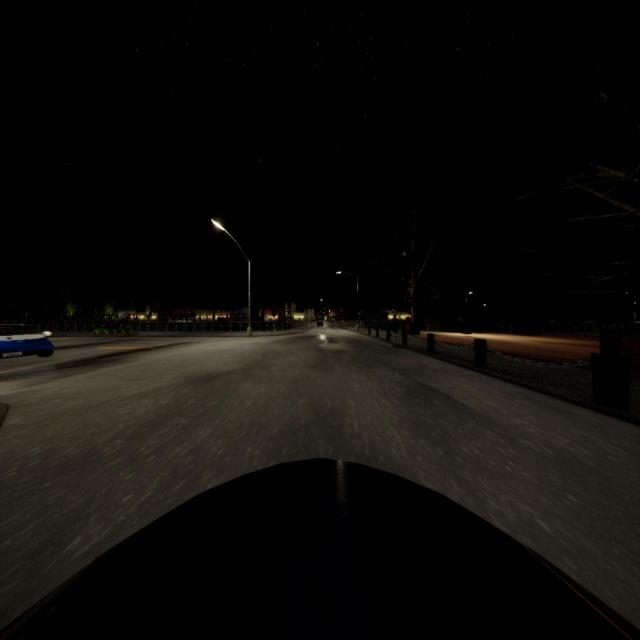Vehicle: (1, 455, 640, 640), (0, 322, 55, 362), (316, 318, 324, 327)
